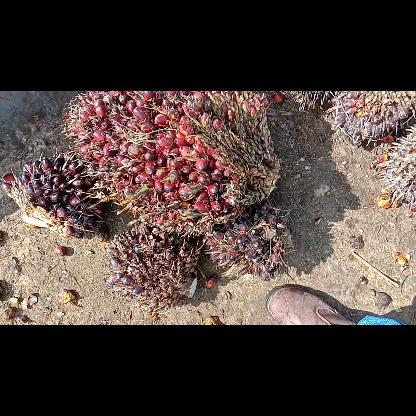TBS abnormal: (2, 152, 106, 236), (103, 226, 199, 306), (203, 214, 291, 282)
TBS masak: (64, 90, 278, 226)
